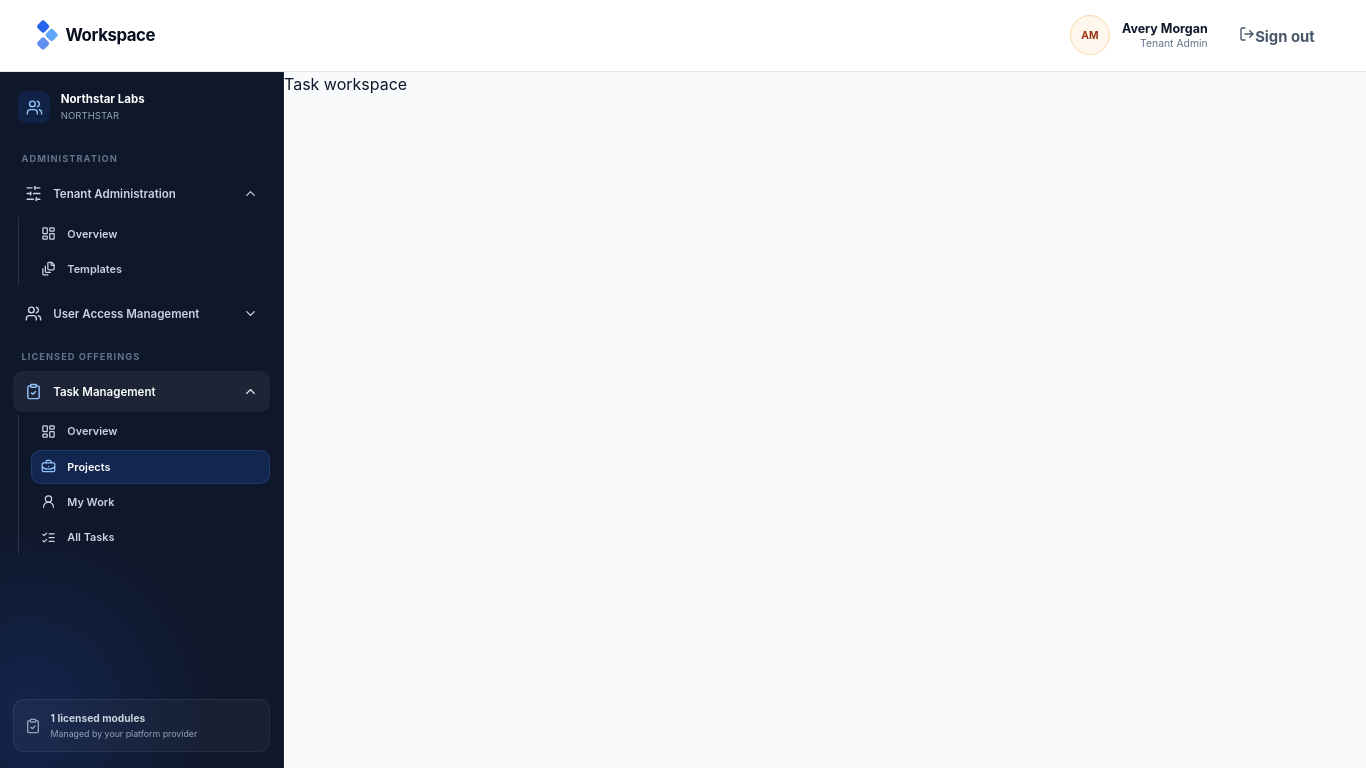
Scenario: TenantShell task navigation › automatically expands on Task Management routes
Click the button "Task Management" at coordinates (142, 392), box [13,371,270,412]
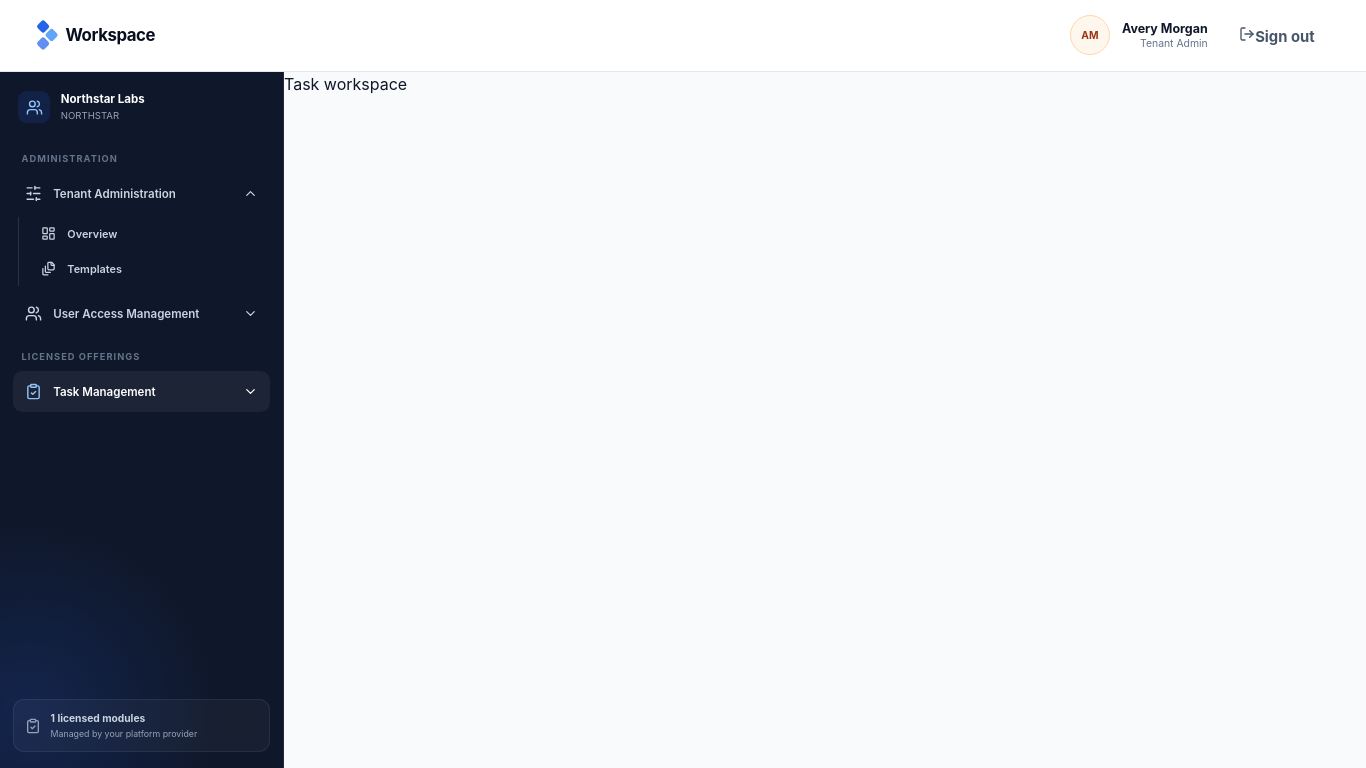
Expected: the button "Task Management" is collapsed, [13,371,270,412]
